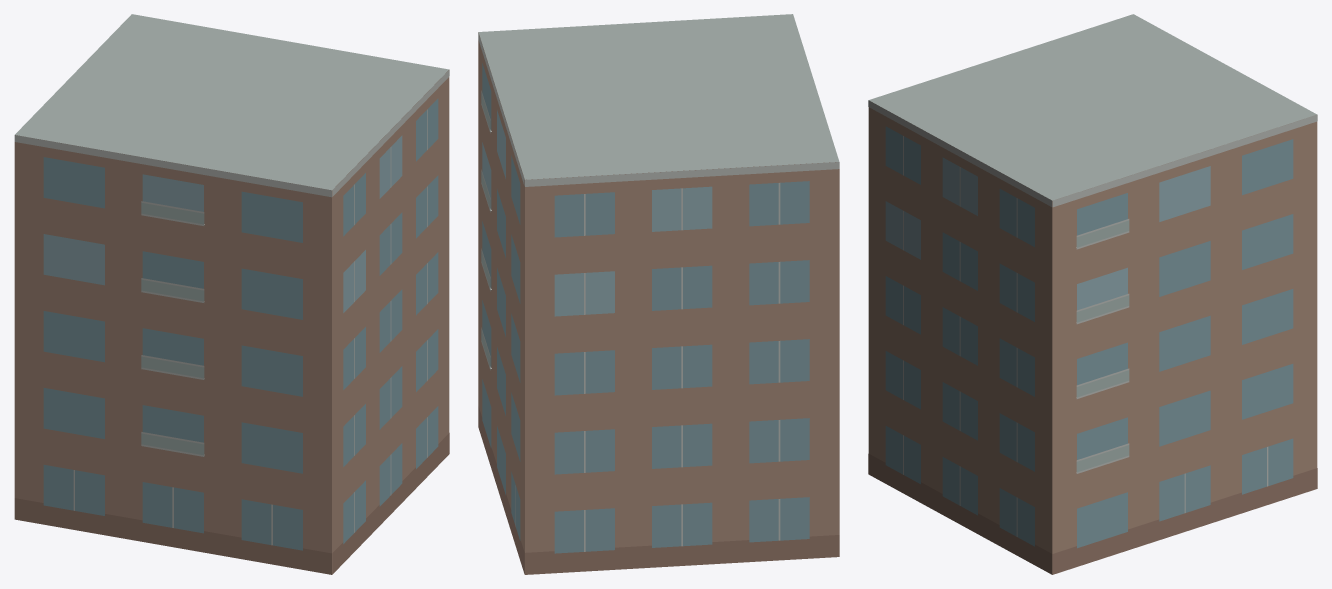
File: survey-upis-32884294.glb
3 renders of one model, left to right at view 1: azimuth 30°, elevation 25°; view 2: azimuth 150°, elevation 25°; view 3: azimuth 270°, elevation 25°, orthographic. The views are drawn at different scales.
Visible parts, largest first — view 1: survey-upis-32884294.tmp; view 2: survey-upis-32884294.tmp; view 3: survey-upis-32884294.tmp.
Part boxes in pixels (<box>): survey-upis-32884294.tmp: <box>14,14,449,574</box>; survey-upis-32884294.tmp: <box>478,14,839,574</box>; survey-upis-32884294.tmp: <box>868,14,1317,574</box>.
Bounding box in the file's own units: 14.29 × 13.35 × 14.52.
